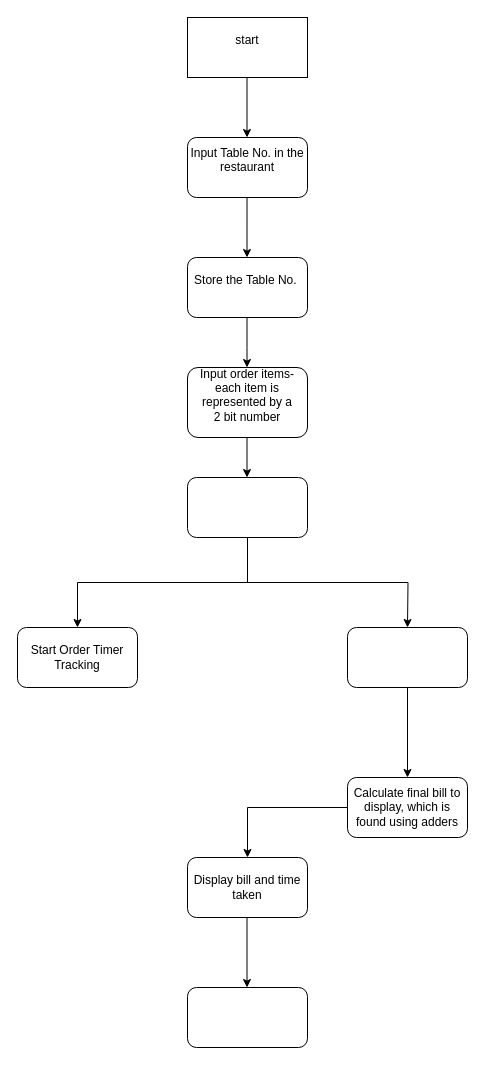
Some shapes in this 485 by 1065 pixel diagram are drawn without their labels. Each missing label, with the centre of its shape:
"Check inventory for availability of menu items" belongs at point 247,507.
"End" belongs at point 247,1017.
"Store order item in queue" belongs at point 407,657.
